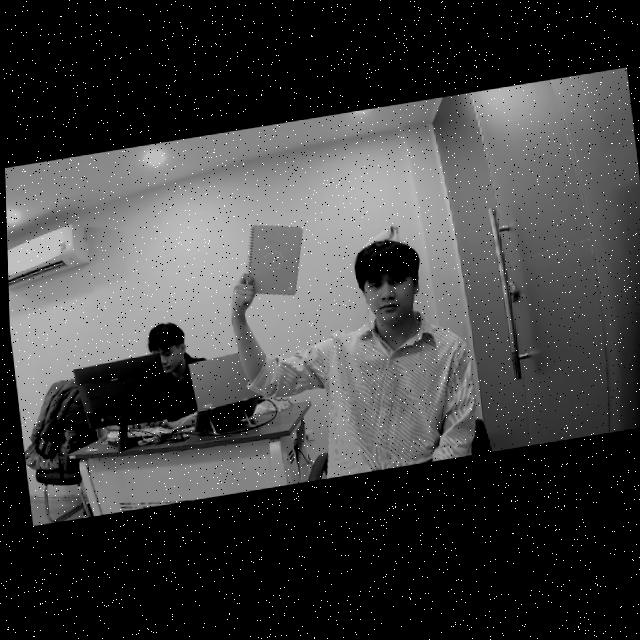document: (246, 225, 303, 295)
face: (354, 249, 424, 330), (145, 323, 192, 377)
